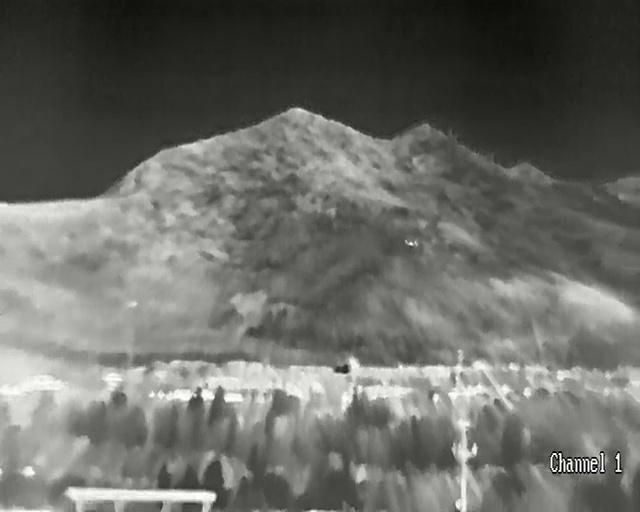uav: (404, 239, 417, 246)
